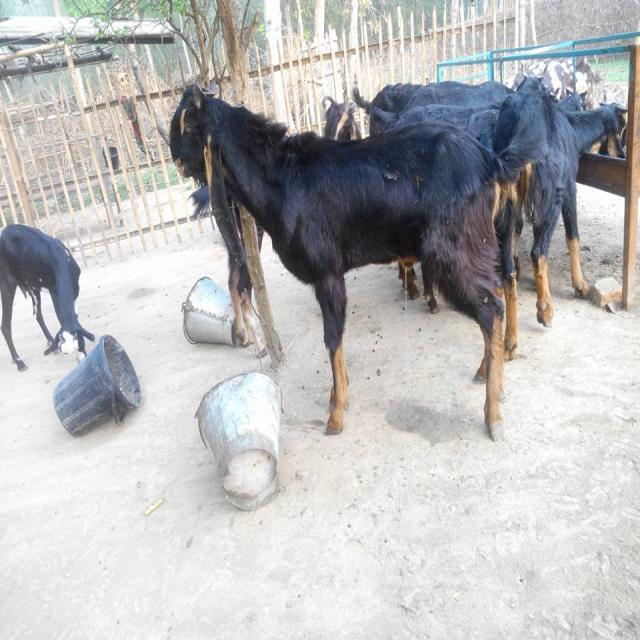Goat: (167, 80, 547, 441), (358, 73, 629, 333), (0, 221, 95, 371)
